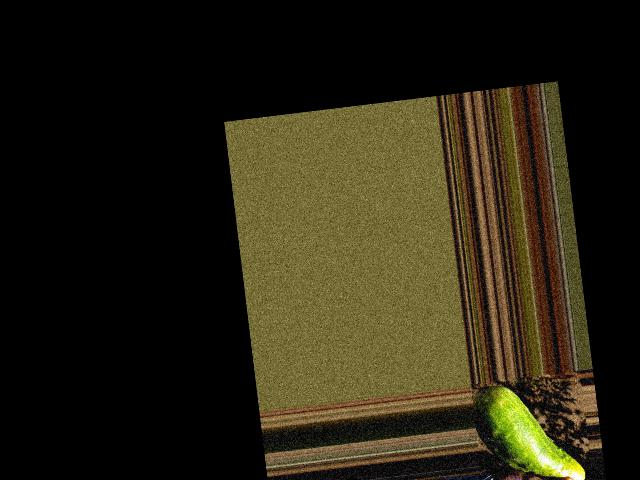cucumber: (469, 375, 586, 480)
